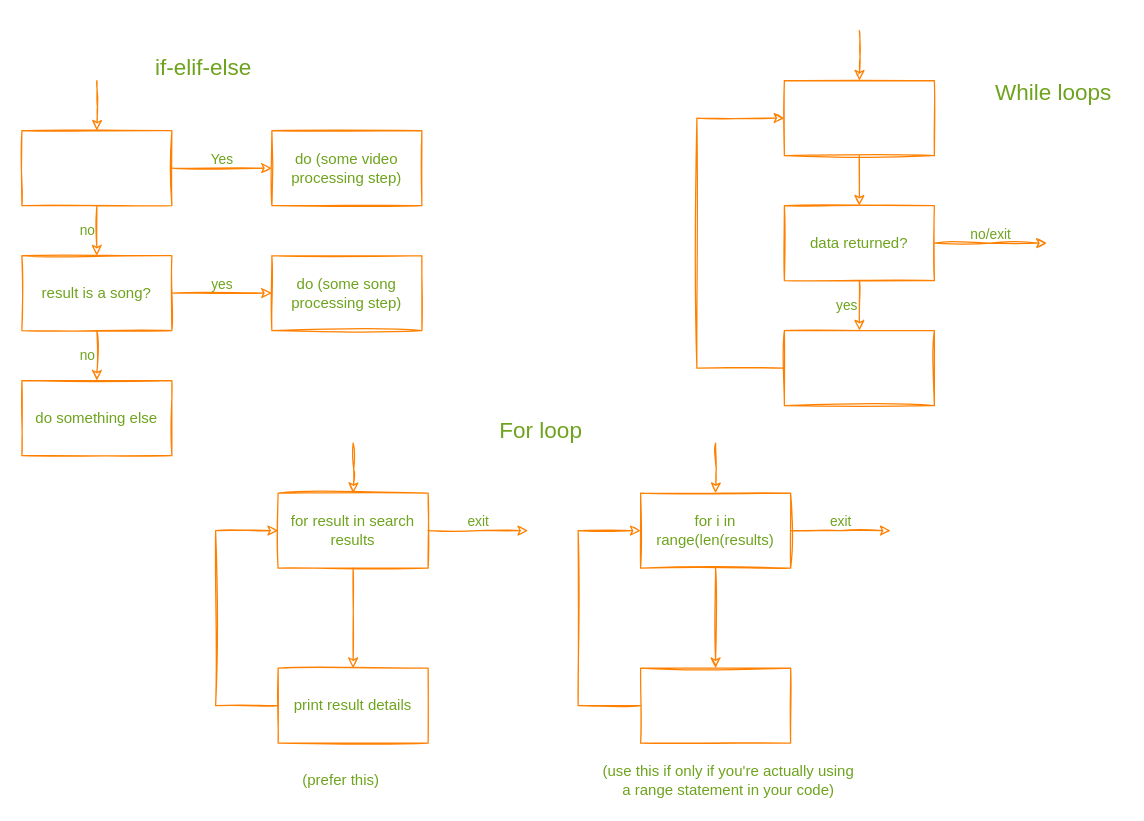
Some shapes in this 1144 by 821 pixel diagram are drawn without their labels. Each missing label, with the box of its shape:
print result[i] details: (639, 667, 791, 743)
read data from file: (783, 79, 934, 156)
result is a video?: (21, 129, 172, 206)
so something with the data: (783, 329, 934, 406)
